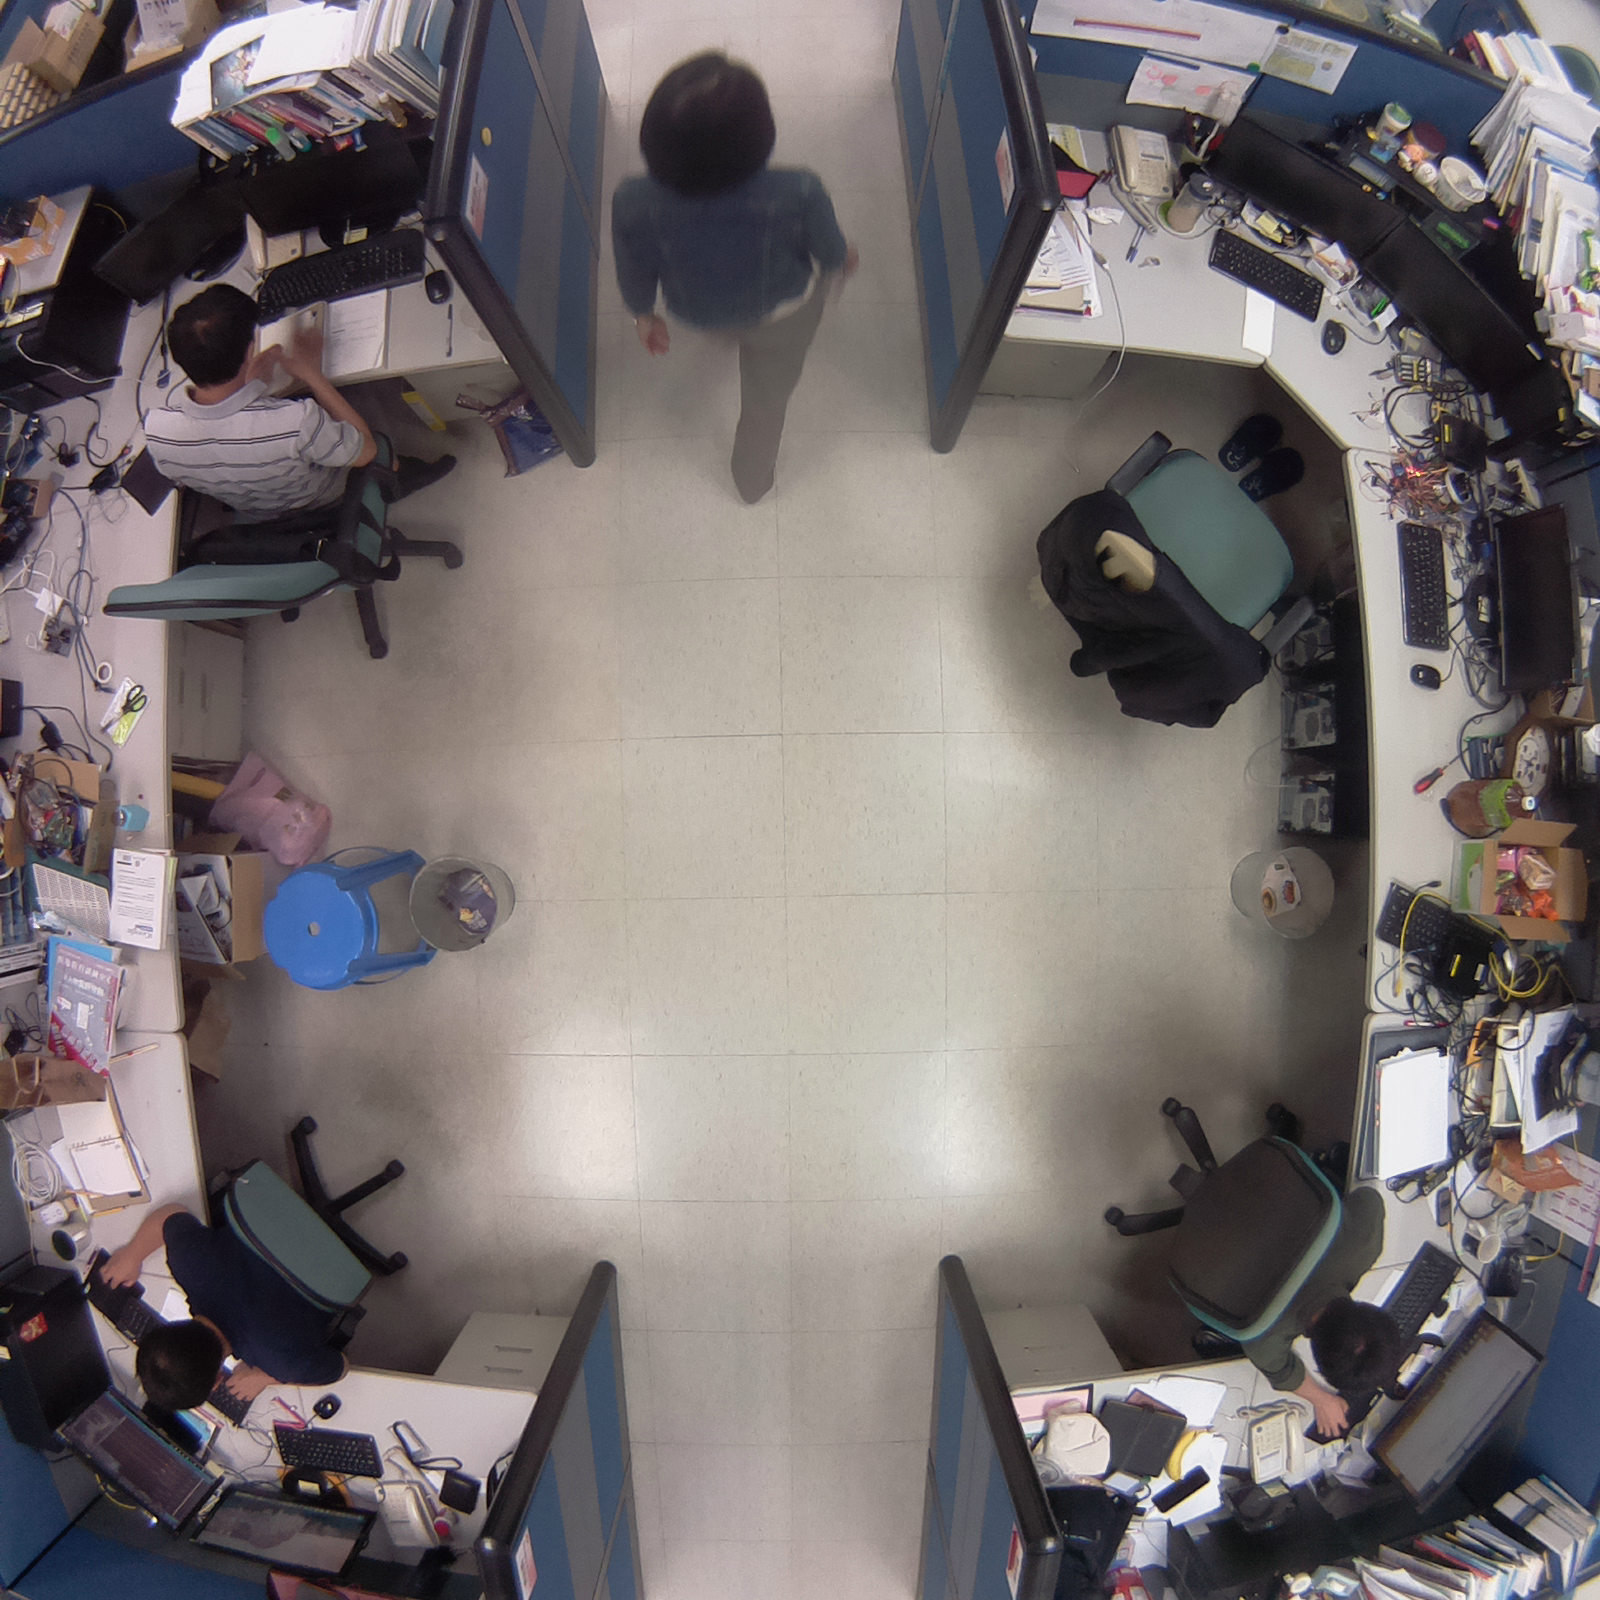chair: (1001, 401, 1329, 758)
head: (626, 38, 791, 201), (1303, 1295, 1410, 1413), (126, 1313, 228, 1415), (164, 284, 266, 384)
sitting: (94, 284, 481, 688), (1088, 1070, 1419, 1444), (95, 1106, 435, 1426)
walking: (601, 46, 870, 520)
